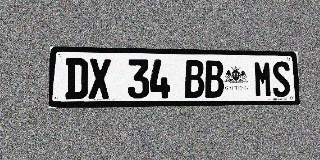3: (128, 59, 149, 99)
4: (150, 59, 170, 98)
B: (184, 60, 204, 98), (204, 60, 224, 98)
D: (65, 58, 88, 99)
M: (254, 61, 273, 97)
S: (272, 61, 291, 97)
X: (88, 58, 111, 99)
